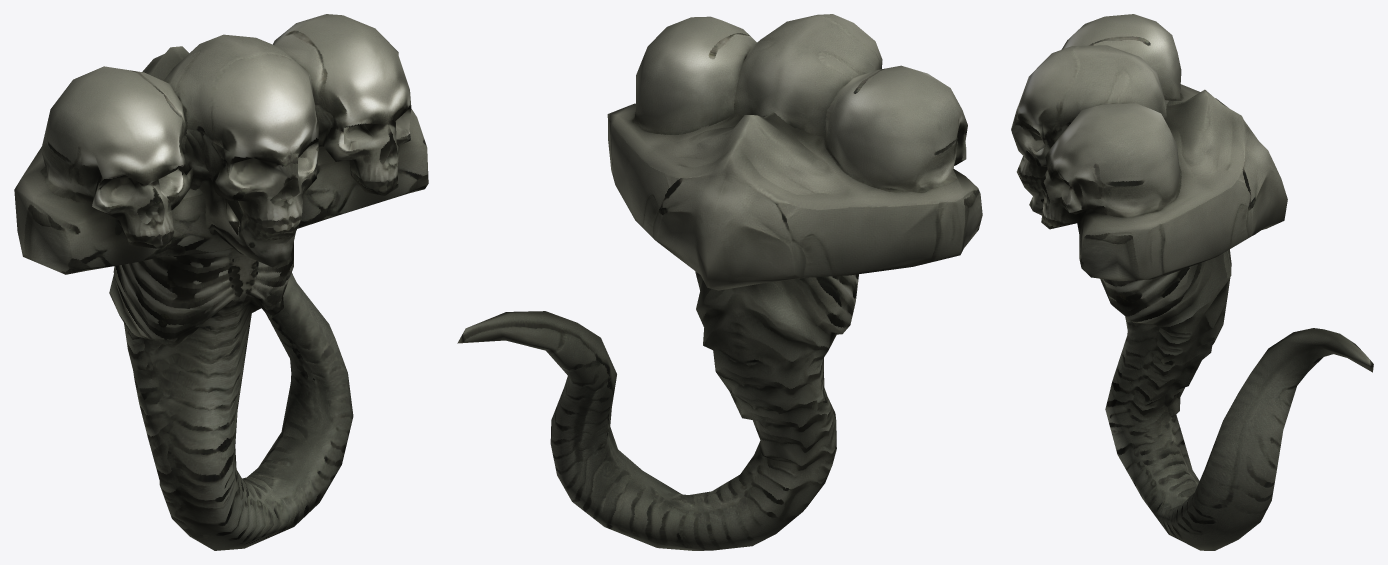
The model's file is wither_single_1500.glb.
3 renders of one model, left to right at view 1: azimuth 30°, elevation 25°; view 2: azimuth 150°, elevation 25°; view 3: azimuth 270°, elevation 25°, orthographic. The views are drawn at different scales.
Size of the model in its own units: 0.6361 by 0.8083 by 0.5812.
1 material, 1 textured.
